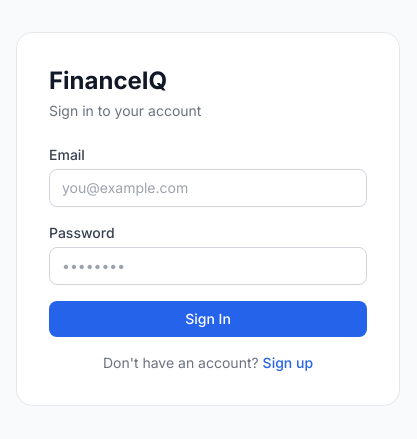
Test: LoginPage › shows error message on failed sign-up
Click the button "Sign up". click: (288, 363)
box: [263, 353, 313, 373]
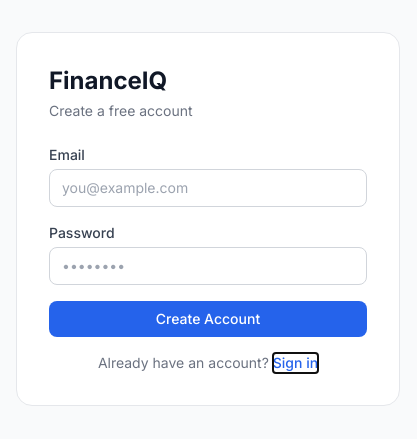
Type "existing@example.com" into the field with placeholder "you@example.com". click: (208, 188)
box: [49, 169, 367, 207]
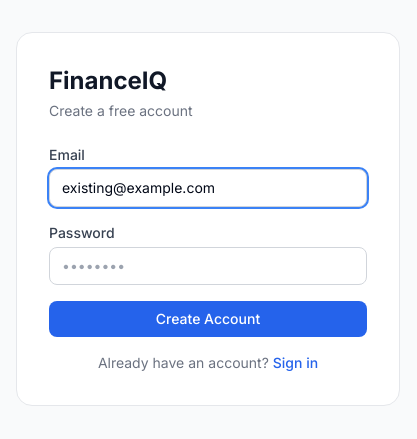
Type "password123" into the password field with placeholder "••••••••". click: (208, 266)
box: [49, 247, 367, 285]
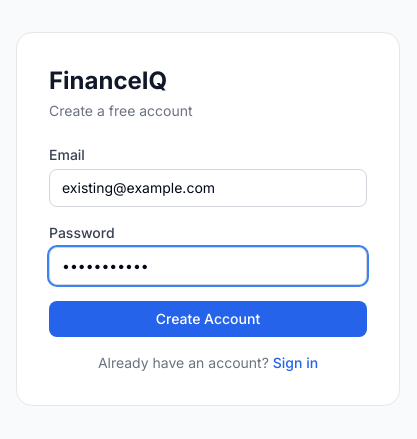
Click the button "Create Account". click: (208, 319)
box: [49, 301, 367, 337]
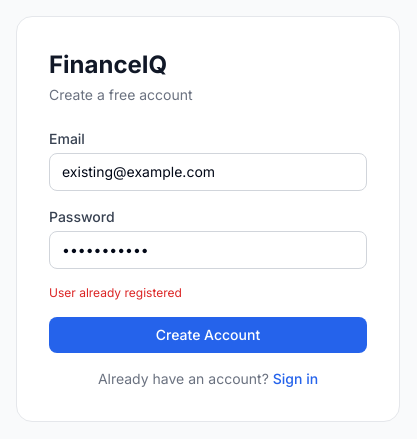
Expected: the text "User already registered" is shown, [49, 285, 182, 300]
